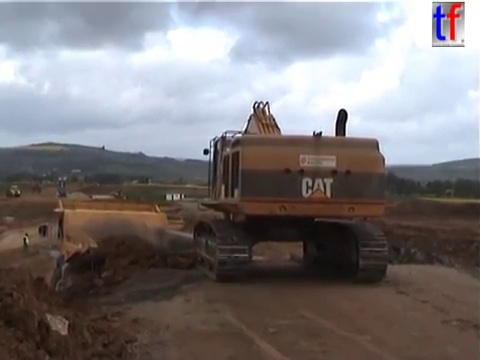excavator: (188, 97, 391, 286)
truck: (36, 195, 227, 308), (101, 199, 186, 247), (6, 184, 21, 197), (29, 180, 42, 193)
worker: (21, 230, 30, 255)
